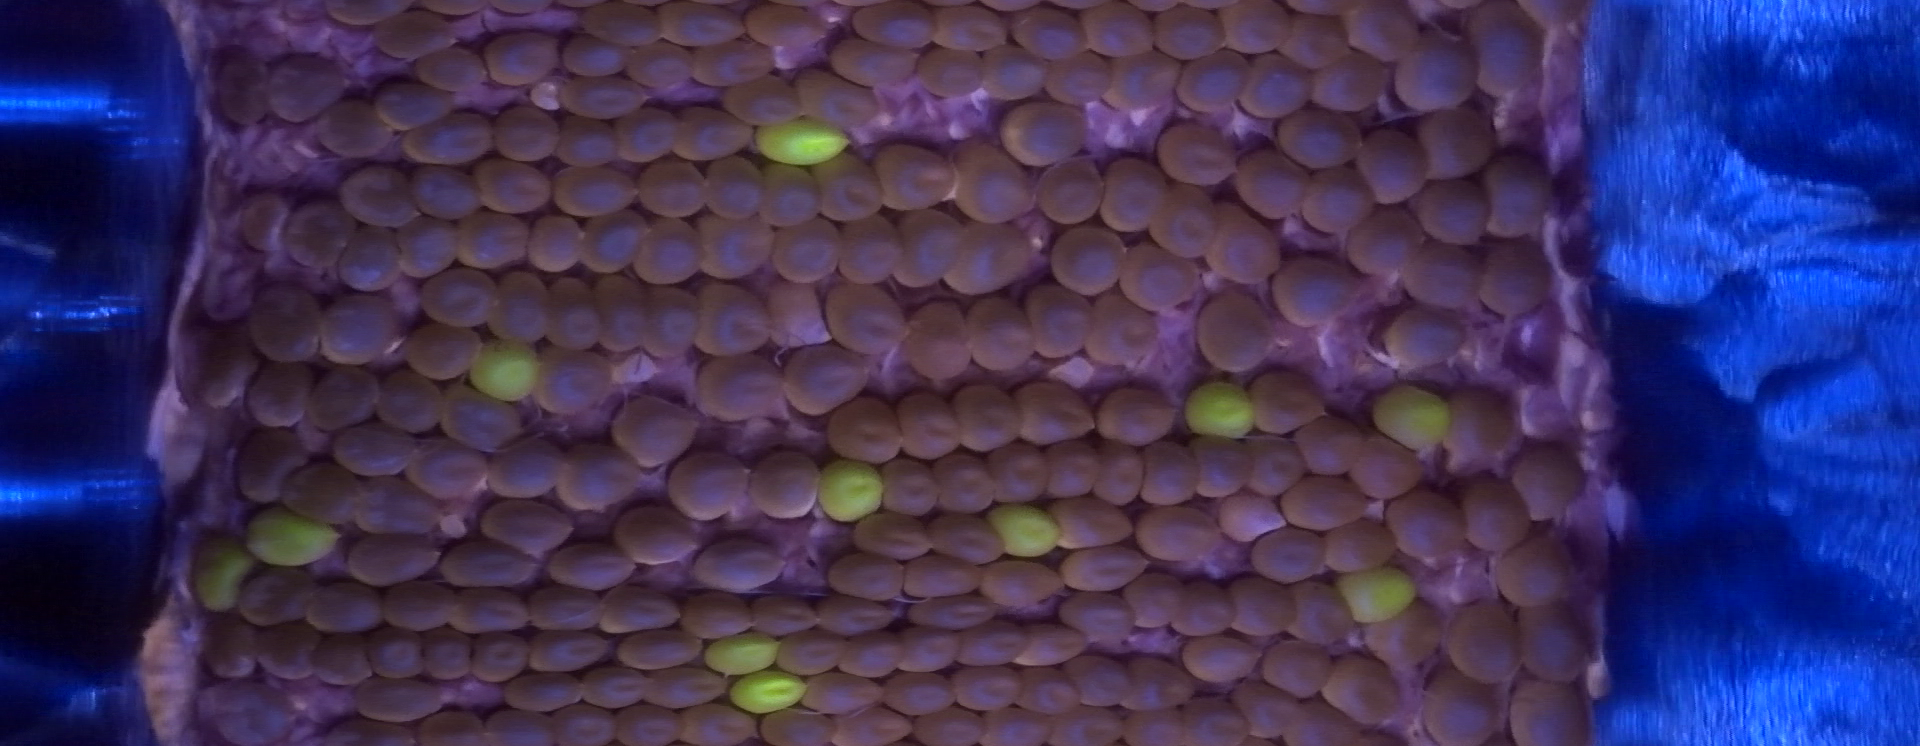fluorescent: (1368, 381, 1460, 454), (242, 503, 339, 563), (1333, 565, 1423, 630), (989, 500, 1071, 567), (189, 526, 255, 608), (752, 122, 856, 169), (469, 337, 538, 404), (819, 459, 888, 526), (1187, 380, 1258, 443), (727, 673, 811, 714), (707, 637, 789, 677)
nonfluorescent: (1466, 2, 1548, 97), (178, 317, 263, 407), (950, 138, 1031, 225), (692, 281, 780, 360), (998, 102, 1096, 171), (1206, 203, 1289, 285), (1194, 292, 1275, 376), (1422, 666, 1507, 746), (1480, 541, 1581, 608), (1384, 488, 1476, 560), (1509, 606, 1591, 687), (211, 54, 293, 134), (1442, 386, 1520, 469), (947, 223, 1040, 292), (191, 686, 304, 742), (1344, 202, 1425, 281), (889, 206, 962, 290), (440, 382, 523, 456), (691, 361, 785, 425), (249, 284, 327, 360), (1457, 481, 1538, 555), (244, 356, 321, 432), (1008, 380, 1100, 443), (358, 478, 449, 541), (1149, 181, 1223, 258), (1400, 33, 1479, 105), (269, 55, 349, 127), (1340, 1, 1427, 67), (1504, 448, 1586, 518), (825, 285, 913, 350), (612, 403, 700, 468), (665, 451, 753, 516), (1022, 288, 1097, 364), (447, 540, 546, 597), (1479, 244, 1554, 318), (1353, 129, 1428, 203), (1234, 152, 1310, 224), (1455, 601, 1527, 677), (284, 464, 373, 526), (240, 423, 309, 502), (779, 349, 861, 415), (280, 198, 362, 265), (1506, 681, 1589, 746), (1156, 120, 1236, 187), (530, 350, 616, 413), (340, 537, 444, 588), (544, 162, 650, 212), (555, 443, 642, 505), (304, 363, 380, 432), (1414, 176, 1491, 245), (1404, 241, 1482, 310), (470, 154, 558, 214), (822, 401, 910, 461), (1485, 160, 1553, 239), (1048, 227, 1127, 294), (811, 156, 889, 223), (402, 109, 497, 164), (869, 145, 955, 206), (320, 295, 400, 360), (1329, 652, 1398, 726), (589, 272, 650, 356), (767, 222, 851, 283), (1116, 653, 1200, 714), (544, 277, 609, 356), (1269, 258, 1349, 322), (696, 216, 781, 276), (697, 149, 771, 218), (1087, 294, 1155, 370), (1104, 45, 1182, 111), (1243, 53, 1315, 122), (486, 274, 555, 348), (828, 38, 921, 92), (791, 69, 877, 126), (967, 303, 1038, 371), (749, 454, 822, 522), (835, 219, 909, 285), (1280, 108, 1360, 168), (1385, 310, 1466, 370), (339, 167, 420, 227), (523, 212, 598, 277), (231, 567, 321, 621), (942, 666, 1037, 717), (1300, 167, 1371, 234), (1420, 111, 1494, 176), (402, 167, 490, 220), (1119, 245, 1196, 306), (408, 443, 493, 499), (675, 103, 757, 160), (318, 98, 400, 156), (893, 393, 962, 461), (1101, 160, 1167, 232), (1080, 6, 1163, 62), (1046, 499, 1136, 550), (620, 508, 696, 570), (542, 543, 648, 587), (1280, 472, 1362, 528), (337, 225, 404, 294), (757, 162, 827, 228), (355, 677, 444, 729), (1176, 53, 1249, 115), (1259, 639, 1338, 697), (973, 559, 1067, 608), (1176, 635, 1269, 684), (527, 628, 617, 679), (1313, 50, 1390, 109), (764, 285, 831, 352), (633, 220, 700, 287), (932, 452, 998, 519), (852, 4, 947, 50), (920, 516, 1011, 563), (954, 383, 1020, 450), (876, 457, 945, 519), (376, 370, 446, 432), (898, 622, 969, 684), (1231, 682, 1308, 739), (400, 327, 485, 379), (551, 114, 626, 171), (1139, 439, 1202, 506), (1188, 429, 1251, 496), (1062, 546, 1151, 594), (447, 583, 531, 633), (1059, 654, 1133, 712), (496, 677, 604, 717), (742, 5, 833, 51), (1291, 586, 1356, 650), (1244, 434, 1308, 500), (396, 219, 462, 283), (639, 163, 714, 219), (579, 209, 649, 269), (687, 546, 787, 588), (1370, 603, 1441, 661), (1276, 15, 1357, 66), (1213, 4, 1300, 51), (655, 1, 752, 44), (489, 442, 562, 499), (907, 307, 971, 372), (1042, 160, 1107, 224), (1015, 620, 1097, 670), (426, 268, 495, 328), (1351, 439, 1420, 497), (1064, 592, 1140, 646), (1011, 9, 1089, 61), (1098, 392, 1176, 445), (636, 669, 736, 709), (1043, 436, 1106, 501), (680, 699, 767, 746), (480, 507, 574, 550), (1253, 528, 1331, 579), (622, 628, 713, 673), (332, 429, 420, 474), (560, 72, 651, 115), (1042, 703, 1134, 746), (853, 508, 932, 559), (981, 47, 1051, 103), (1251, 374, 1322, 429), (490, 108, 566, 159), (1150, 9, 1229, 58), (601, 590, 681, 639), (460, 211, 528, 268), (616, 108, 684, 164), (1231, 579, 1300, 635), (779, 628, 853, 680), (1131, 506, 1210, 555), (691, 40, 778, 85), (929, 7, 1011, 54), (381, 582, 462, 628), (580, 5, 665, 49), (721, 78, 801, 125), (418, 45, 491, 96), (1090, 441, 1149, 503), (900, 552, 983, 597), (912, 594, 1003, 635), (1013, 663, 1085, 713), (1325, 522, 1401, 570), (827, 552, 909, 597), (798, 671, 888, 712), (312, 628, 372, 688), (1289, 699, 1367, 746), (647, 292, 702, 356), (531, 588, 610, 633), (1293, 420, 1360, 473), (298, 590, 391, 628), (880, 673, 965, 714), (479, 36, 561, 78), (411, 708, 503, 746), (920, 48, 987, 99), (257, 626, 324, 677), (366, 630, 430, 684), (372, 12, 447, 58), (375, 83, 451, 127), (680, 597, 760, 637), (1044, 56, 1109, 107), (757, 707, 842, 745), (309, 1, 424, 29), (1173, 588, 1239, 637), (240, 200, 300, 254), (202, 622, 263, 675), (1217, 494, 1288, 539), (611, 704, 688, 746), (842, 632, 915, 676), (996, 450, 1051, 507), (1183, 701, 1253, 746), (628, 42, 694, 89), (322, 714, 421, 746), (964, 622, 1027, 671), (827, 707, 917, 741), (560, 36, 632, 78), (418, 628, 478, 680), (546, 708, 627, 746), (980, 706, 1056, 746), (817, 595, 899, 632), (577, 673, 660, 707), (1131, 573, 1183, 628), (912, 709, 988, 746), (751, 595, 820, 635), (469, 635, 533, 677), (486, 709, 560, 746), (1127, 708, 1194, 746), (1524, 1, 1586, 29)
